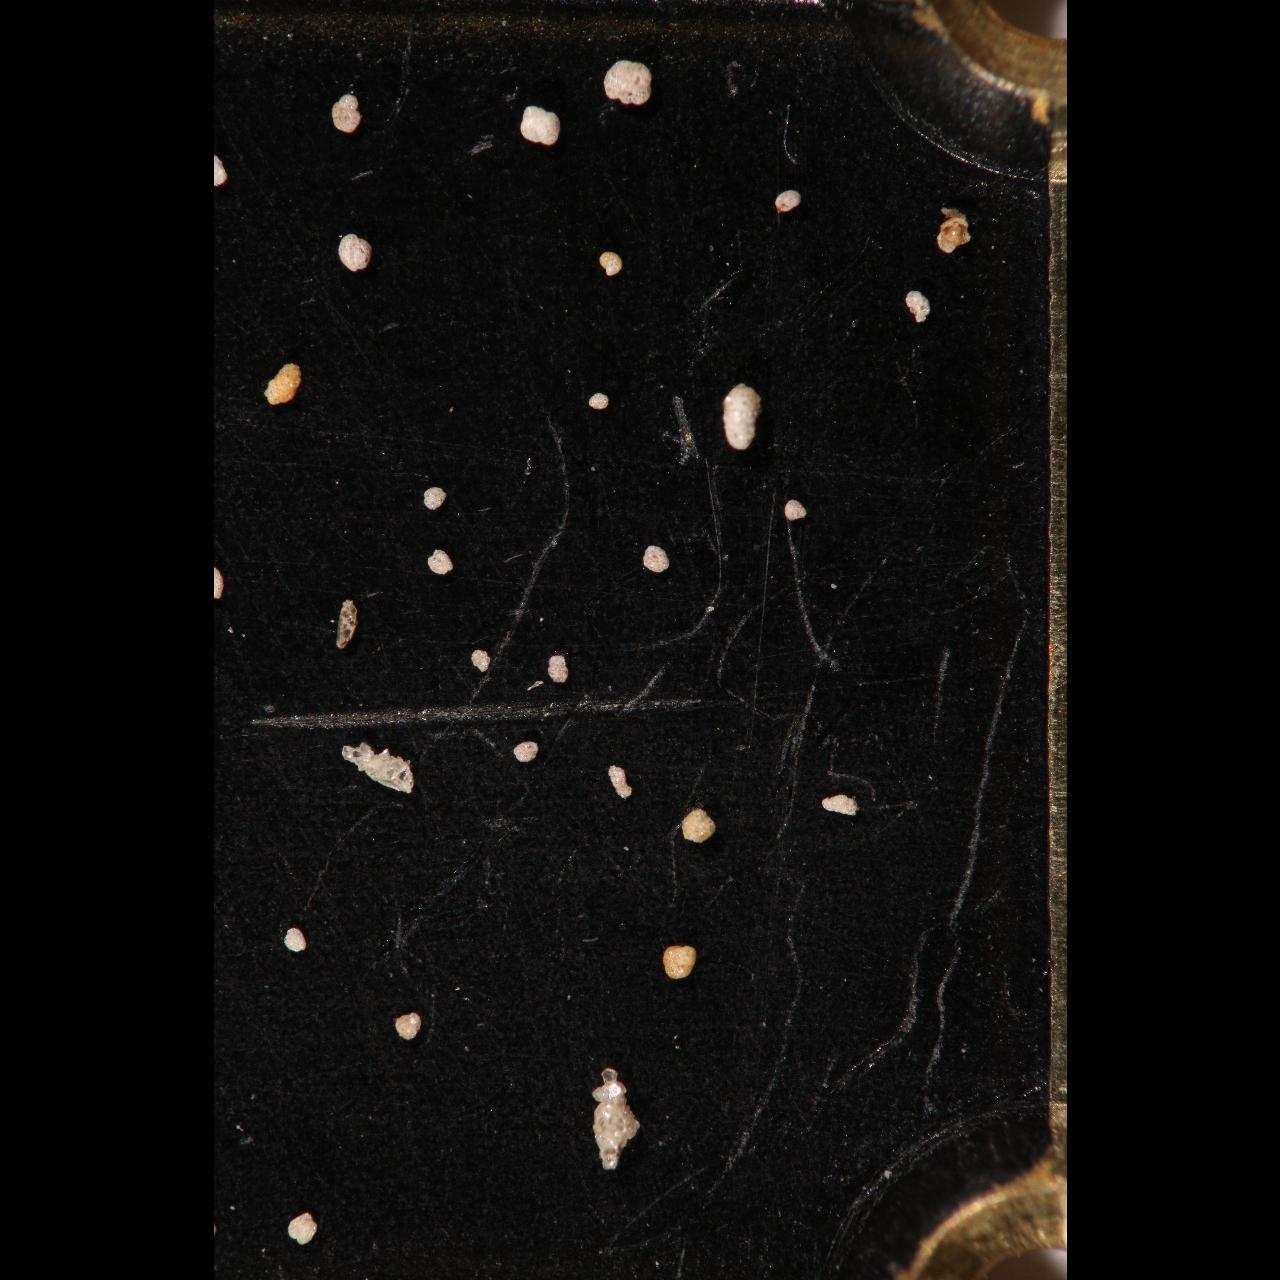agglutinated: (592, 1065, 640, 1172), (338, 742, 414, 796), (720, 382, 761, 450), (602, 59, 651, 105), (519, 103, 561, 147), (261, 362, 300, 406), (937, 207, 972, 253), (679, 806, 715, 844), (331, 91, 361, 136), (339, 232, 372, 272), (660, 944, 695, 980), (334, 597, 358, 649), (286, 1211, 319, 1245), (904, 290, 932, 325), (821, 794, 857, 818), (641, 543, 669, 573), (607, 763, 631, 798), (425, 547, 452, 577), (395, 1010, 422, 1040), (546, 654, 568, 685), (774, 189, 801, 213), (422, 485, 445, 511), (599, 250, 621, 275), (512, 740, 538, 762), (783, 497, 806, 520), (470, 647, 490, 674), (284, 928, 306, 952), (588, 390, 610, 409)
